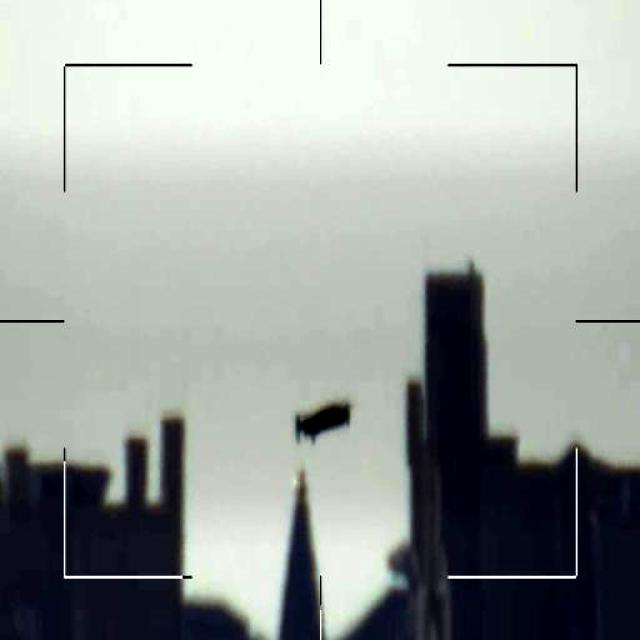bird: (298, 392, 361, 444)
